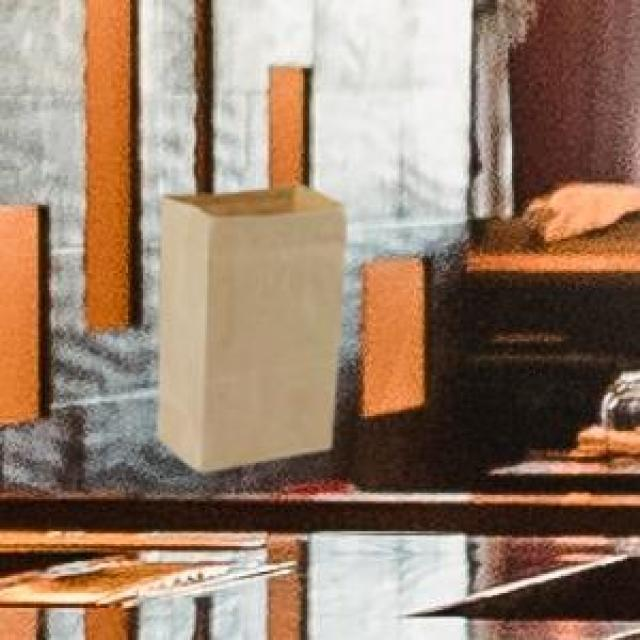paper: (154, 181, 341, 467)
